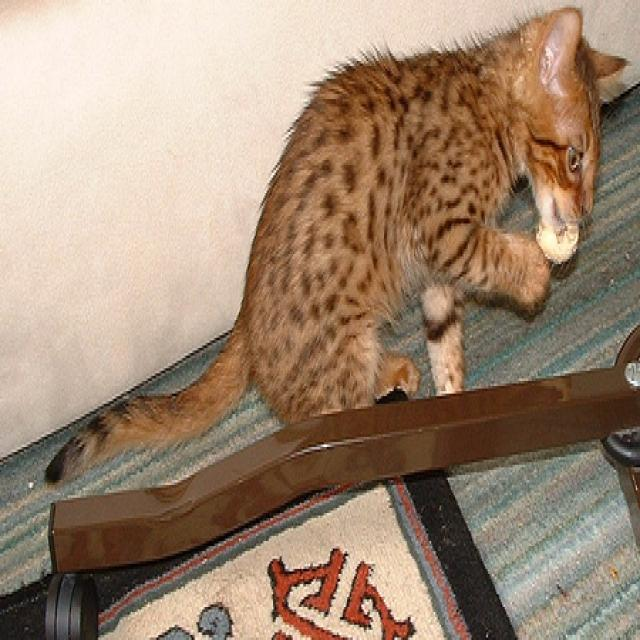Bengal: (39, 0, 628, 488)
